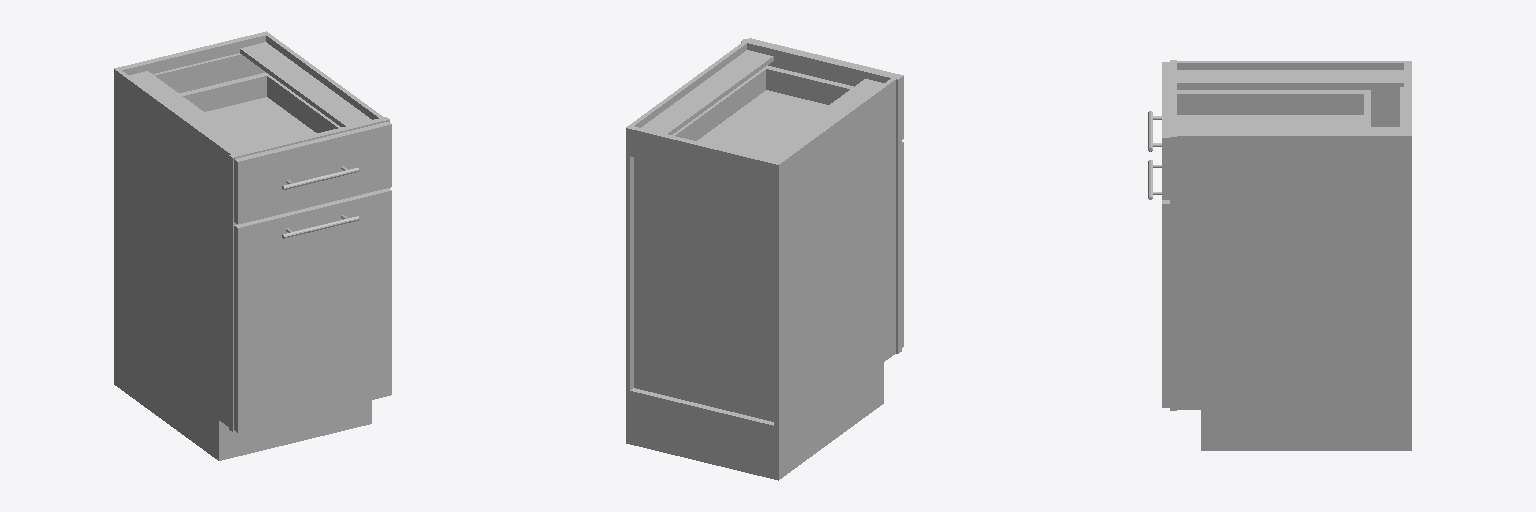
The model's file is Base+Single+Door (2).obj.
3 renders of one model, left to right at view 1: azimuth 30°, elevation 25°; view 2: azimuth 150°, elevation 25°; view 3: azimuth 270°, elevation 25°, orthographic.
Parts seen in each view (by area): view 1: Mesh68 DR_FACE1 LT_11_1 Model, Mesh25 E1_2 E_11_1 box_5_1 Model, Mesh59 DWR_FACE_3_1 DF_12_1 DWR1_1_1 Model, Mesh27 E3_2 E_11_1 box_5_1 Model, Mesh33 T_8_1 box_5_1 Model, Mesh37 B_8_2 box_5_1 Model, Mesh44 DB1BT1 DB1_1_1 DWR1_1_1 Model, Mesh23 E2_2 E_11_1 box_5_1 Model, Mesh9 BK_10_1 box_5_1 Model, Mesh35 B_8_1 box_5_1 Model, Mesh7 R2_11_1 box_5_1 Model, Mesh49 DB1F2 DB1_1_1 DWR1_1_1 Model (+4 smaller); view 2: Mesh9 BK_10_1 box_5_1 Model, Mesh25 E1_2 E_11_1 box_5_1 Model, Mesh31 R1_10_1 box_5_1 Model, Mesh27 E3_2 E_11_1 box_5_1 Model, Mesh7 R2_11_1 box_5_1 Model, Mesh44 DB1BT1 DB1_1_1 DWR1_1_1 Model, Mesh23 E2_2 E_11_1 box_5_1 Model, Mesh37 B_8_2 box_5_1 Model, Mesh19 E1_1 E_10_1 box_5_1 Model, Mesh35 B_8_1 box_5_1 Model, Mesh11 FR_2_1 box_5_1 Model, Mesh41 DB1F1 DB1_1_1 DWR1_1_1 Model (+3 smaller); view 3: Mesh19 E1_1 E_10_1 box_5_1 Model, Mesh21 E3_1 E_10_1 box_5_1 Model, Mesh17 E2_1 E_10_1 box_5_1 Model, Mesh39 DB1L1 DB1_1_1 DWR1_1_1 Model, Mesh35 B_8_1 box_5_1 Model, Mesh25 E1_2 E_11_1 box_5_1 Model, Mesh44 DB1BT1 DB1_1_1 DWR1_1_1 Model, Mesh5 VS_8_1 box_5_1 Model, Mesh68 DR_FACE1 LT_11_1 Model, Mesh37 B_8_2 box_5_1 Model, Mesh59 DWR_FACE_3_1 DF_12_1 DWR1_1_1 Model, Mesh7 R2_11_1 box_5_1 Model.
Part boxes in pixels (bbox=[...]): Mesh68 DR_FACE1 LT_11_1 Model: bbox=[234, 188, 391, 432]; Mesh25 E1_2 E_11_1 box_5_1 Model: bbox=[114, 68, 222, 419]; Mesh59 DWR_FACE_3_1 DF_12_1 DWR1_1_1 Model: bbox=[234, 122, 391, 224]; Mesh27 E3_2 E_11_1 box_5_1 Model: bbox=[114, 344, 222, 460]; Mesh33 T_8_1 box_5_1 Model: bbox=[223, 401, 367, 459]; Mesh37 B_8_2 box_5_1 Model: bbox=[240, 42, 371, 126]; Mesh44 DB1BT1 DB1_1_1 DWR1_1_1 Model: bbox=[205, 97, 316, 148]; Mesh23 E2_2 E_11_1 box_5_1 Model: bbox=[219, 145, 234, 426]; Mesh9 BK_10_1 box_5_1 Model: bbox=[153, 53, 264, 92]; Mesh35 B_8_1 box_5_1 Model: bbox=[129, 71, 253, 152]; Mesh7 R2_11_1 box_5_1 Model: bbox=[118, 33, 265, 74]; Mesh49 DB1F2 DB1_1_1 DWR1_1_1 Model: bbox=[179, 73, 266, 111]; Mesh9 BK_10_1 box_5_1 Model: bbox=[634, 157, 773, 421]; Mesh25 E1_2 E_11_1 box_5_1 Model: bbox=[774, 87, 883, 438]; Mesh31 R1_10_1 box_5_1 Model: bbox=[630, 388, 773, 478]; Mesh27 E3_2 E_11_1 box_5_1 Model: bbox=[774, 363, 883, 480]; Mesh7 R2_11_1 box_5_1 Model: bbox=[630, 126, 777, 190]; Mesh44 DB1BT1 DB1_1_1 DWR1_1_1 Model: bbox=[697, 90, 828, 156]; Mesh23 E2_2 E_11_1 box_5_1 Model: bbox=[880, 78, 895, 361]; Mesh37 B_8_2 box_5_1 Model: bbox=[641, 50, 773, 134]; Mesh19 E1_1 E_10_1 box_5_1 Model: bbox=[626, 51, 734, 402]; Mesh35 B_8_1 box_5_1 Model: bbox=[759, 79, 883, 160]; Mesh11 FR_2_1 box_5_1 Model: bbox=[754, 42, 887, 83]; Mesh41 DB1F1 DB1_1_1 DWR1_1_1 Model: bbox=[766, 66, 853, 104]; Mesh19 E1_1 E_10_1 box_5_1 Model: bbox=[1201, 133, 1411, 409]; Mesh21 E3_1 E_10_1 box_5_1 Model: bbox=[1201, 410, 1411, 450]; Mesh17 E2_1 E_10_1 box_5_1 Model: bbox=[1177, 133, 1200, 409]; Mesh39 DB1L1 DB1_1_1 DWR1_1_1 Model: bbox=[1177, 90, 1370, 114]; Mesh35 B_8_1 box_5_1 Model: bbox=[1177, 70, 1403, 86]; Mesh25 E1_2 E_11_1 box_5_1 Model: bbox=[1201, 61, 1411, 126]; Mesh44 DB1BT1 DB1_1_1 DWR1_1_1 Model: bbox=[1177, 115, 1363, 126]; Mesh5 VS_8_1 box_5_1 Model: bbox=[1170, 130, 1176, 410]; Mesh68 DR_FACE1 LT_11_1 Model: bbox=[1162, 200, 1169, 407]; Mesh37 B_8_2 box_5_1 Model: bbox=[1177, 127, 1403, 132]; Mesh59 DWR_FACE_3_1 DF_12_1 DWR1_1_1 Model: bbox=[1162, 62, 1169, 199]; Mesh7 R2_11_1 box_5_1 Model: bbox=[1404, 63, 1411, 132].
Size of the model in its own units: 45.72 by 87.63 by 66.36.